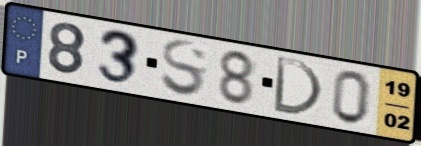0: (329, 68, 374, 127)
3: (95, 27, 146, 88)
8: (217, 48, 258, 107), (46, 21, 88, 76)
D: (270, 54, 326, 119)
S: (158, 39, 209, 100)
